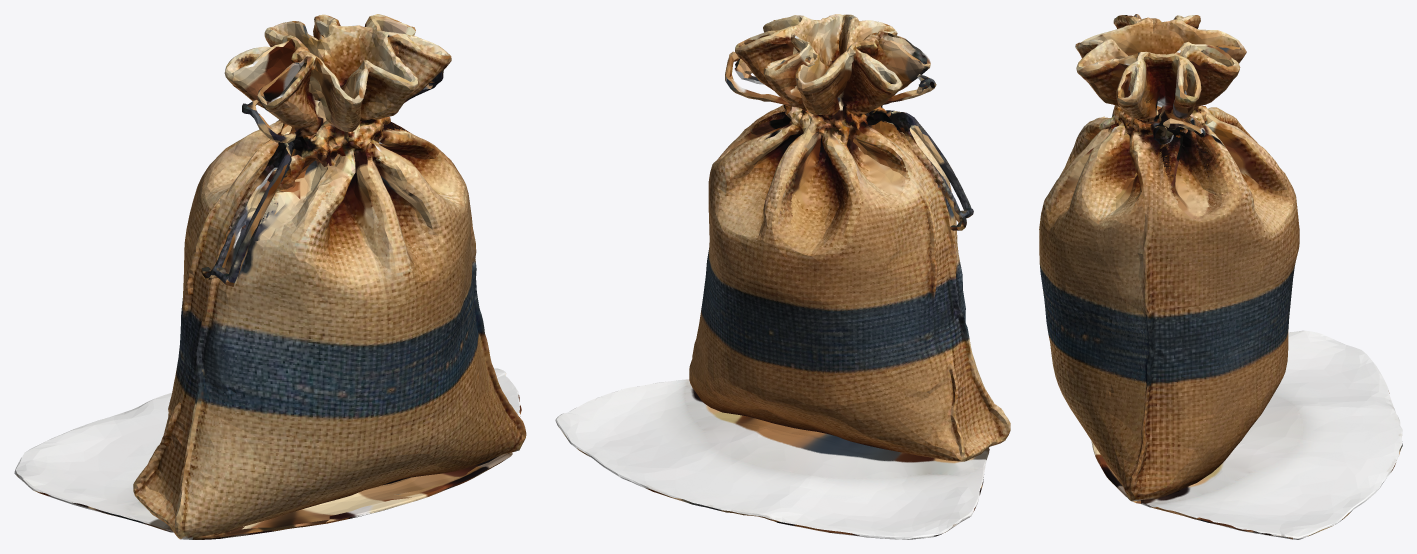
The model's file is hoshi_goods_hoshi_salt_sack.glb.
The picture shows the model from 3 angles, left to right: view 1: azimuth 30°, elevation 25°; view 2: azimuth 150°, elevation 25°; view 3: azimuth 270°, elevation 25°; orthographic projection. The views are drawn at different scales.
Parts seen in each view (by area): view 1: temp_mesh.ply; view 2: temp_mesh.ply; view 3: temp_mesh.ply.
Part boxes in pixels (left/top/right/bottom): temp_mesh.ply: left=14, top=14, right=526, bottom=539; temp_mesh.ply: left=555, top=14, right=1010, bottom=539; temp_mesh.ply: left=1039, top=14, right=1402, bottom=539.
Bounding box in the file's own units: 1.97 × 1.83 × 1.47.
Materials: 1 (1 with a texture image).
